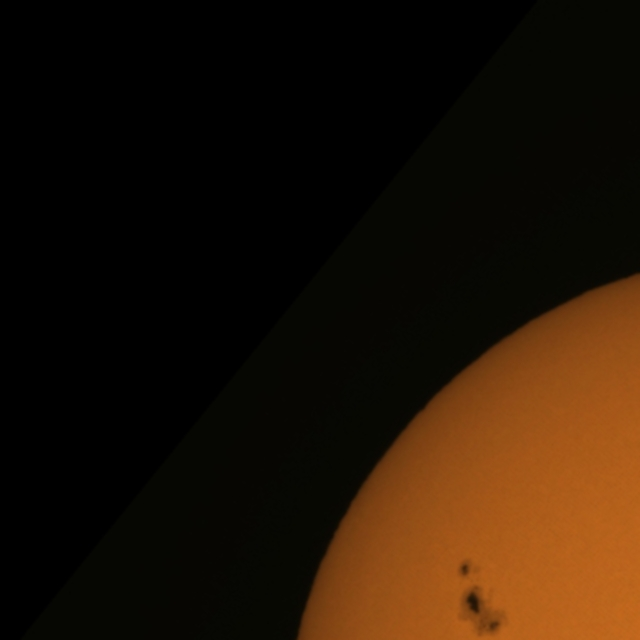sunspot: (457, 593, 503, 640), (457, 558, 482, 588)
